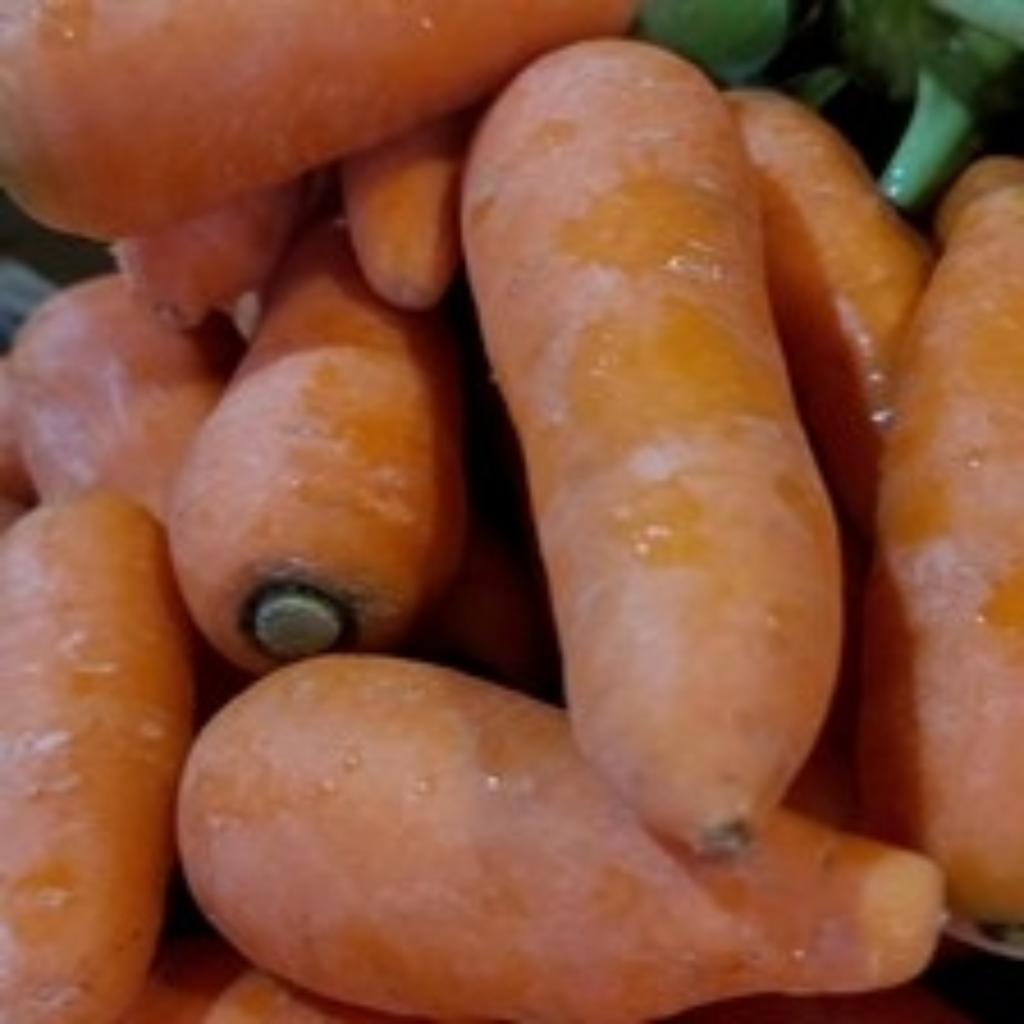carrot: (174, 37, 933, 1010), (166, 220, 466, 671), (0, 489, 183, 1015), (658, 809, 759, 855)
